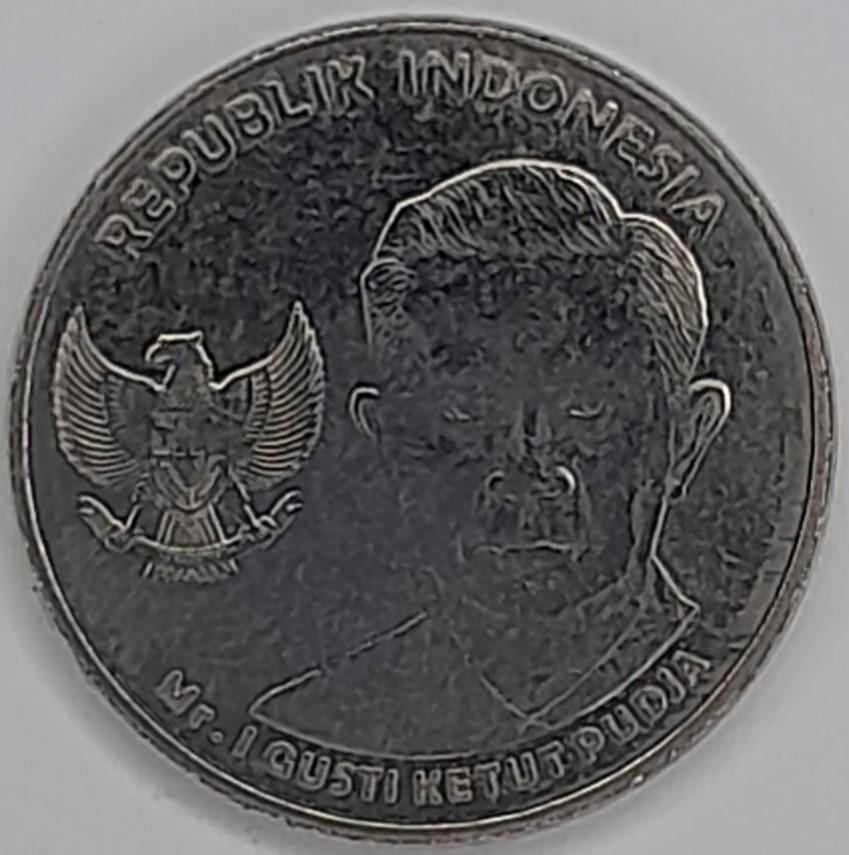coin_1000_e2016: (14, 17, 838, 855)
